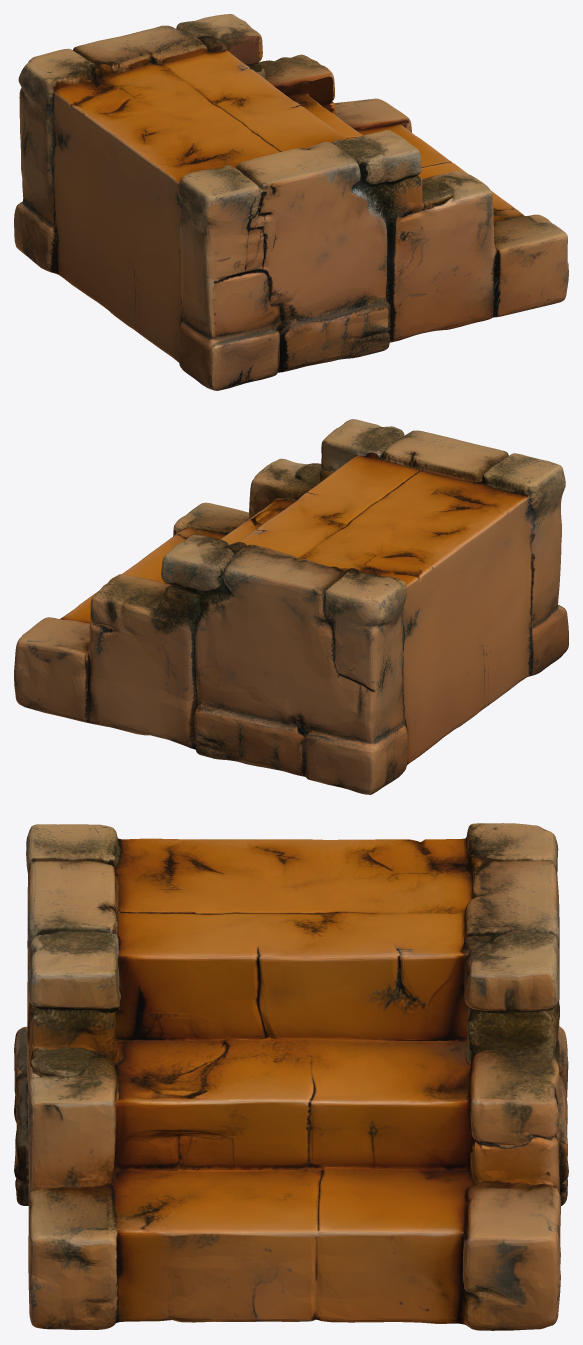
Rendered from weathered-stone-steps-module-optimized.glb.
The picture shows the model from 3 angles, top to bottom: view 1: azimuth 30°, elevation 25°; view 2: azimuth 150°, elevation 25°; view 3: azimuth 270°, elevation 25°; orthographic projection. The views are drawn at different scales.
Visible parts, largest first — view 1: 51ed2a1e-aa2a-473b-8c35-f3a8994cba86_texturing.obj; view 2: 51ed2a1e-aa2a-473b-8c35-f3a8994cba86_texturing.obj; view 3: 51ed2a1e-aa2a-473b-8c35-f3a8994cba86_texturing.obj.
Boxes of the visible parts, bbox=[...] form: 51ed2a1e-aa2a-473b-8c35-f3a8994cba86_texturing.obj: bbox=[14, 14, 568, 390]; 51ed2a1e-aa2a-473b-8c35-f3a8994cba86_texturing.obj: bbox=[14, 419, 568, 794]; 51ed2a1e-aa2a-473b-8c35-f3a8994cba86_texturing.obj: bbox=[14, 823, 568, 1330].
Bounding box in the file's own units: 3 × 1.52 × 2.82.
1 material, 1 textured.
